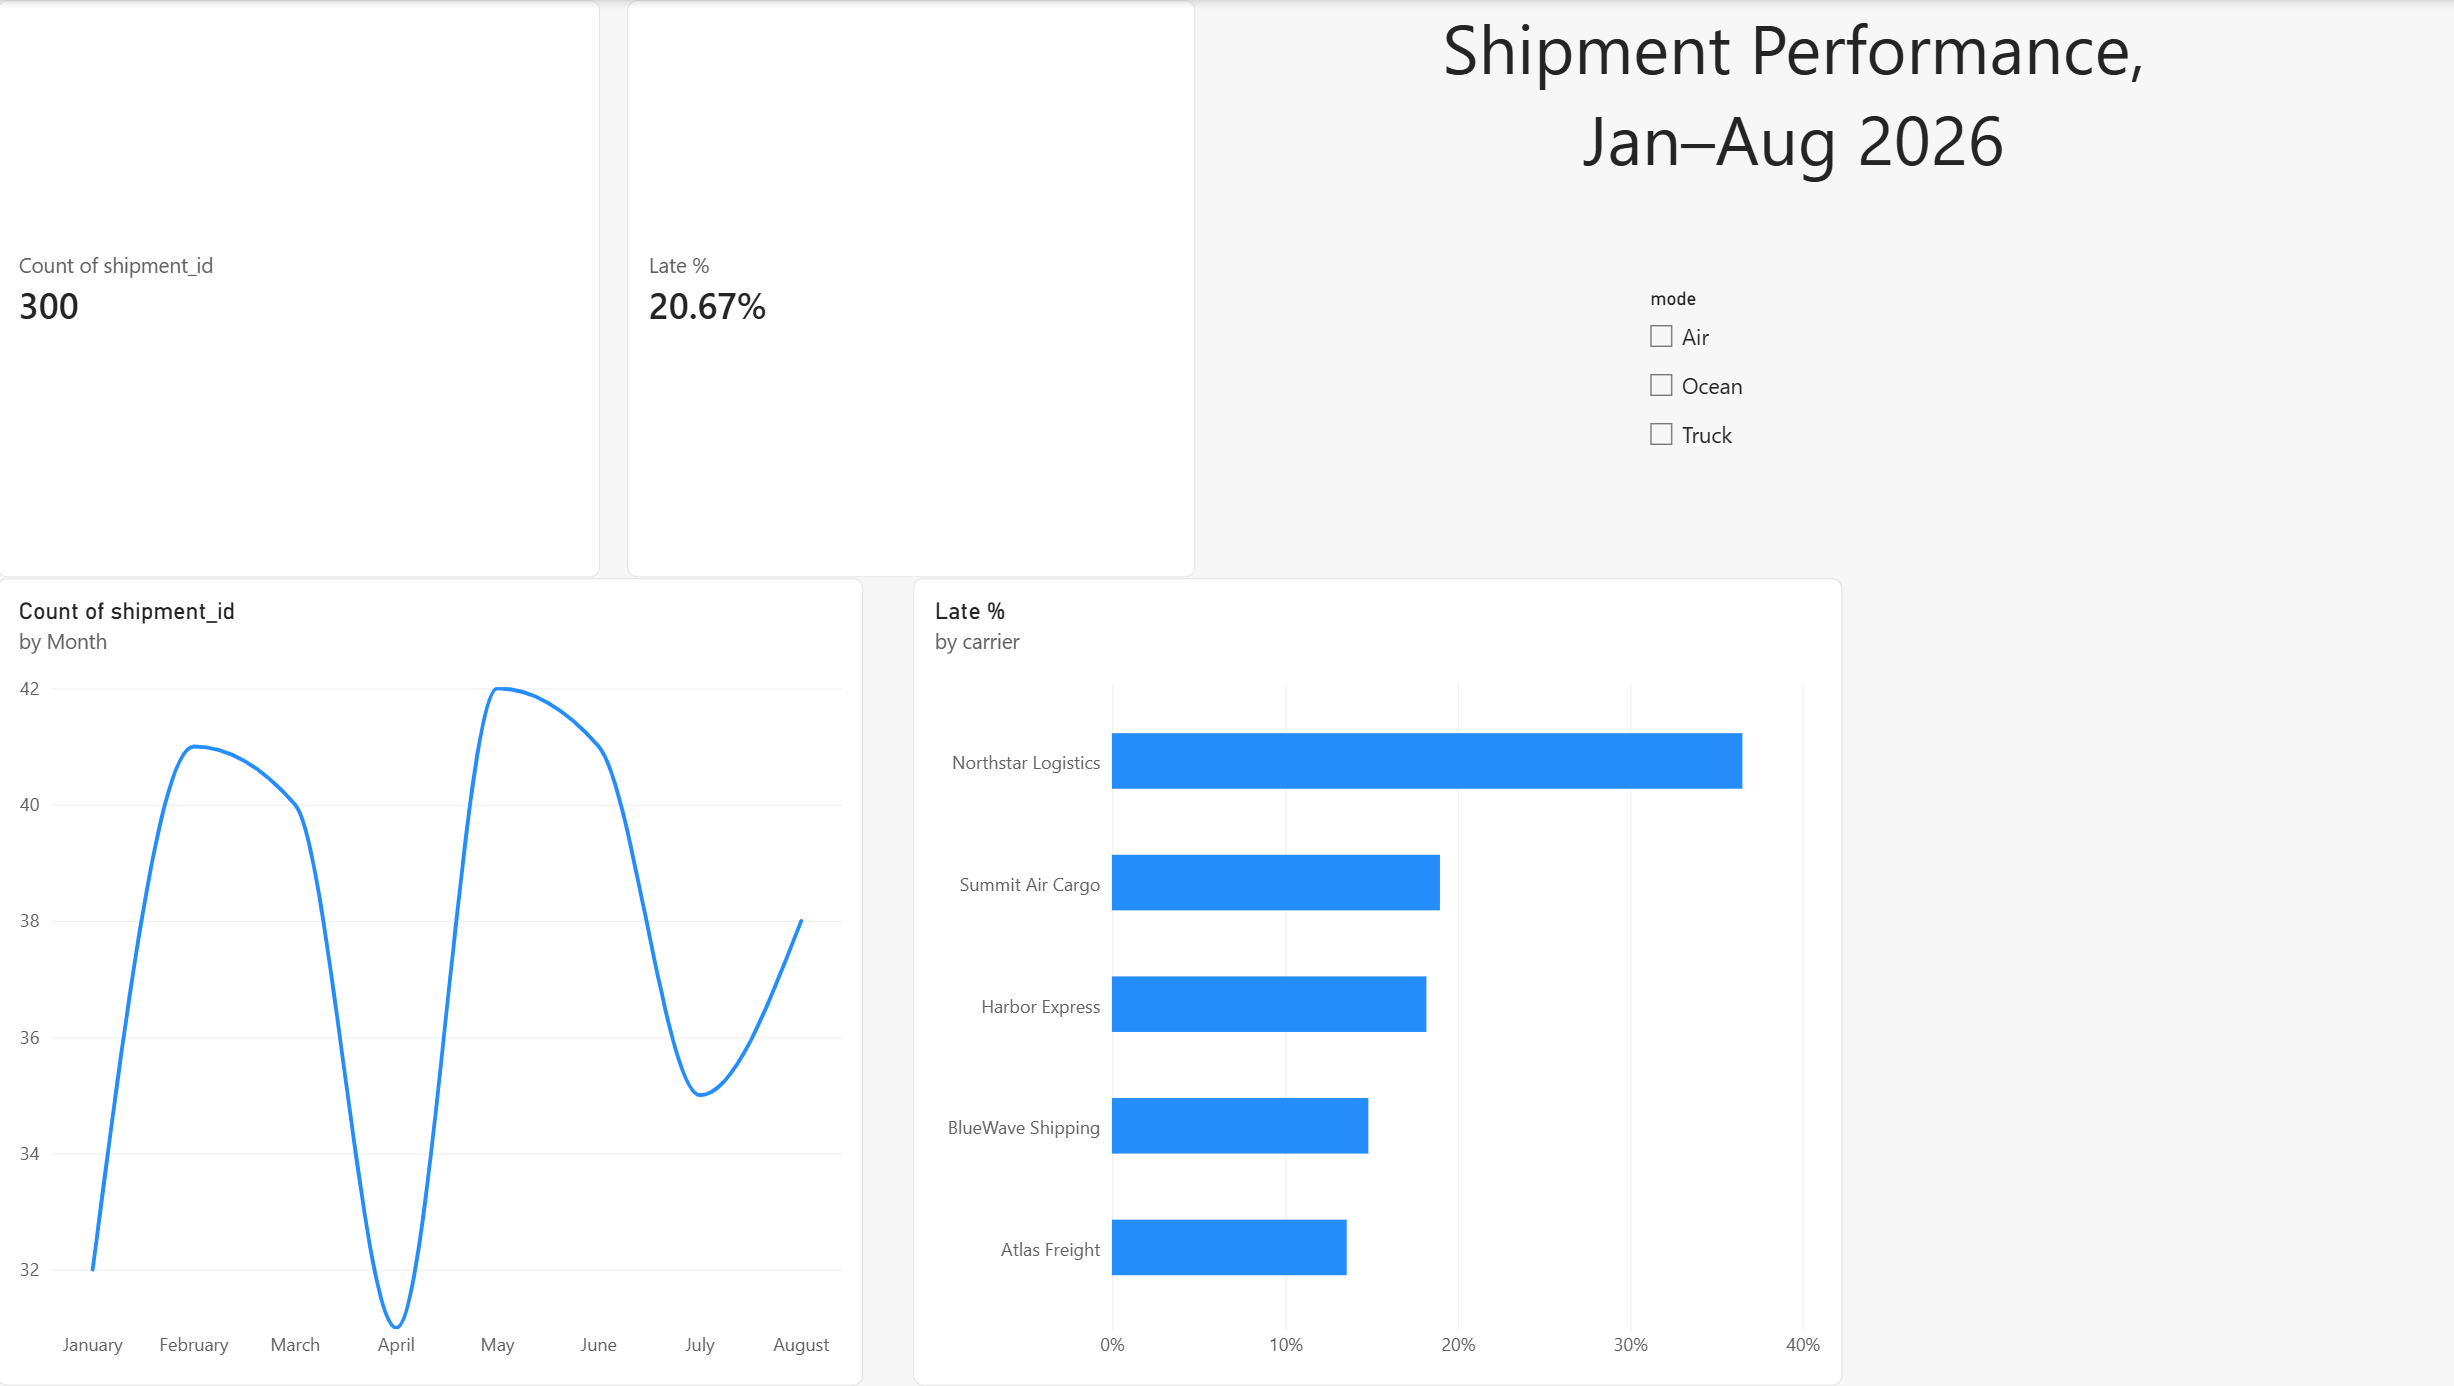

The dashboard page shown, as its layout file describes it:
{"tool":"powerbi","page":{"name":"Page 1","canvas":[1920,1080],"ordinal":0},"visuals":[{"type":"cardVisual","fields":{"Data":["CountNonNull(shipments.shipment_id)"]},"box":[0,0,470.8,450.1],"z":0},{"type":"cardVisual","fields":{"Data":["shipments.Late %"]},"box":[491.5,0,443.3,450.1],"z":1000},{"type":"clusteredBarChart","fields":{"Category":["shipments.carrier"],"Y":["shipments.Late %"]},"box":[714.3,450.1,723.4,629.3],"z":2000},{"type":"lineChart","fields":{"Category":["shipments.month.Variation.Date Hierarchy.Month"],"Y":["CountNonNull(shipments.shipment_id)"]},"box":[0,450.1,675.2,629.3],"z":3000},{"type":"slicer","fields":{"Values":["shipments.mode"]},"box":[1279.2,225.1,454.7,539.7],"z":3001},{"type":"textbox","box":[1088.6,0,620.1,328.4],"z":3002}]}

Visuals, with their boxes in screenshot pixels (x1, y1, x2, y2), scaled from the page's 1920x1080 canvas onto the 2454x1386 screenshot:
cardVisual - CountNonNull(shipments.shipment_id): 0/0/602/578
cardVisual - shipments.Late %: 628/0/1195/578
clusteredBarChart - shipments.carrier x shipments.Late %: 913/578/1838/1385
lineChart - shipments.month.Variation.Date Hierarchy.Month x CountNonNull(shipments.shipment_id): 0/578/863/1385
slicer - shipments.mode: 1635/289/2216/981
textbox: 1391/0/2184/421
